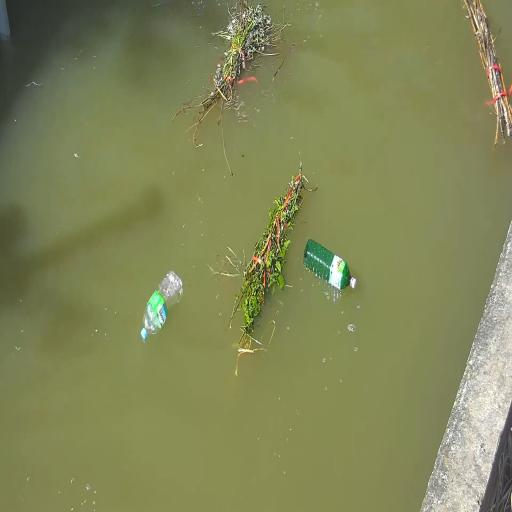plastic: (303, 236, 358, 294), (141, 270, 184, 344)
twig: (214, 170, 308, 356), (194, 0, 281, 140), (458, 0, 512, 151)
